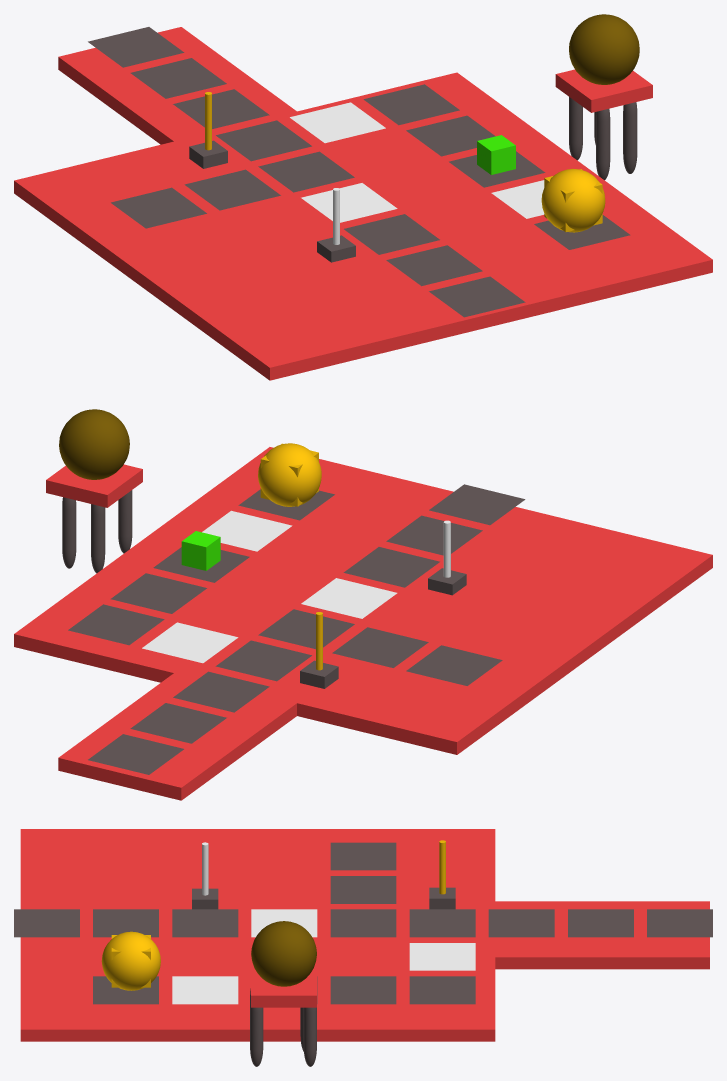
File: Level The Amphibian Abyss  Blockout Assets.fbx
3 views of the same model, one above another, from view 1: azimuth 30°, elevation 25°; view 2: azimuth 150°, elevation 25°; view 3: azimuth 270°, elevation 25° (orthographic). The views are drawn at different scales.
Parts seen in each view (by area): view 1: Platform (1), Platform, Boulder, Sphere, Cube_2, Plane (9), Plane, Plane (11), Plane (5), Plane (16), Plane (10), Plane (7) (+16 smaller); view 2: Platform (1), Platform, Boulder, Sphere, Cube_2, Plane (9), Plane (7), Plane, Plane (2), Plane (10), Plane (11), Plane (17) (+16 smaller); view 3: Platform (1), Platform, Boulder, Sphere, Plane (2), Plane (4), Plane (11), Plane (14), Plane (7), Plane (12), Plane (5), Plane (17) (+13 smaller).
Part boxes in pixels (left/top/right/bottom): Platform (1): left=14, top=72, right=712, bottom=380; Platform: left=58, top=27, right=297, bottom=144; Boulder: left=569, top=14, right=639, bottom=84; Sphere: left=541, top=168, right=605, bottom=232; Cube_2: left=555, top=69, right=652, bottom=112; Plane (9): left=429, top=276, right=525, bottom=317; Plane: left=88, top=27, right=184, bottom=67; Plane (11): left=363, top=84, right=459, bottom=125; Plane (5): left=258, top=151, right=354, bottom=192; Plane (16): left=184, top=169, right=280, bottom=210; Plane (10): left=290, top=102, right=385, bottom=143; Plane (7): left=344, top=214, right=439, bottom=254; Platform (1): left=14, top=447, right=712, bottom=754; Platform: left=58, top=672, right=296, bottom=800; Boulder: left=59, top=409, right=129, bottom=479; Sphere: left=258, top=443, right=321, bottom=506; Cube_2: left=46, top=464, right=142, bottom=507; Plane (9): left=429, top=484, right=525, bottom=525; Plane (7): left=343, top=547, right=439, bottom=587; Plane: left=88, top=734, right=183, bottom=774; Plane (2): left=173, top=671, right=269, bottom=712; Plane (10): left=142, top=622, right=238, bottom=663; Plane (11): left=68, top=604, right=164, bottom=645; Plane (17): left=406, top=645, right=502, bottom=685; Platform (1): left=20, top=829, right=495, bottom=1041; Platform: left=493, top=901, right=709, bottom=969; Boulder: left=251, top=921, right=316, bottom=986; Sphere: left=101, top=931, right=160, bottom=990; Plane (2): left=488, top=909, right=554, bottom=937; Plane (4): left=409, top=909, right=475, bottom=937; Plane (11): left=409, top=976, right=475, bottom=1004; Plane (14): left=172, top=976, right=238, bottom=1004; Plane (7): left=172, top=909, right=238, bottom=937; Plane (12): left=330, top=976, right=396, bottom=1004; Plane (5): left=330, top=909, right=396, bottom=937; Plane (17): left=330, top=842, right=396, bottom=870.
Bounding box in the file's own units: 4121 × 1152 × 5300.
